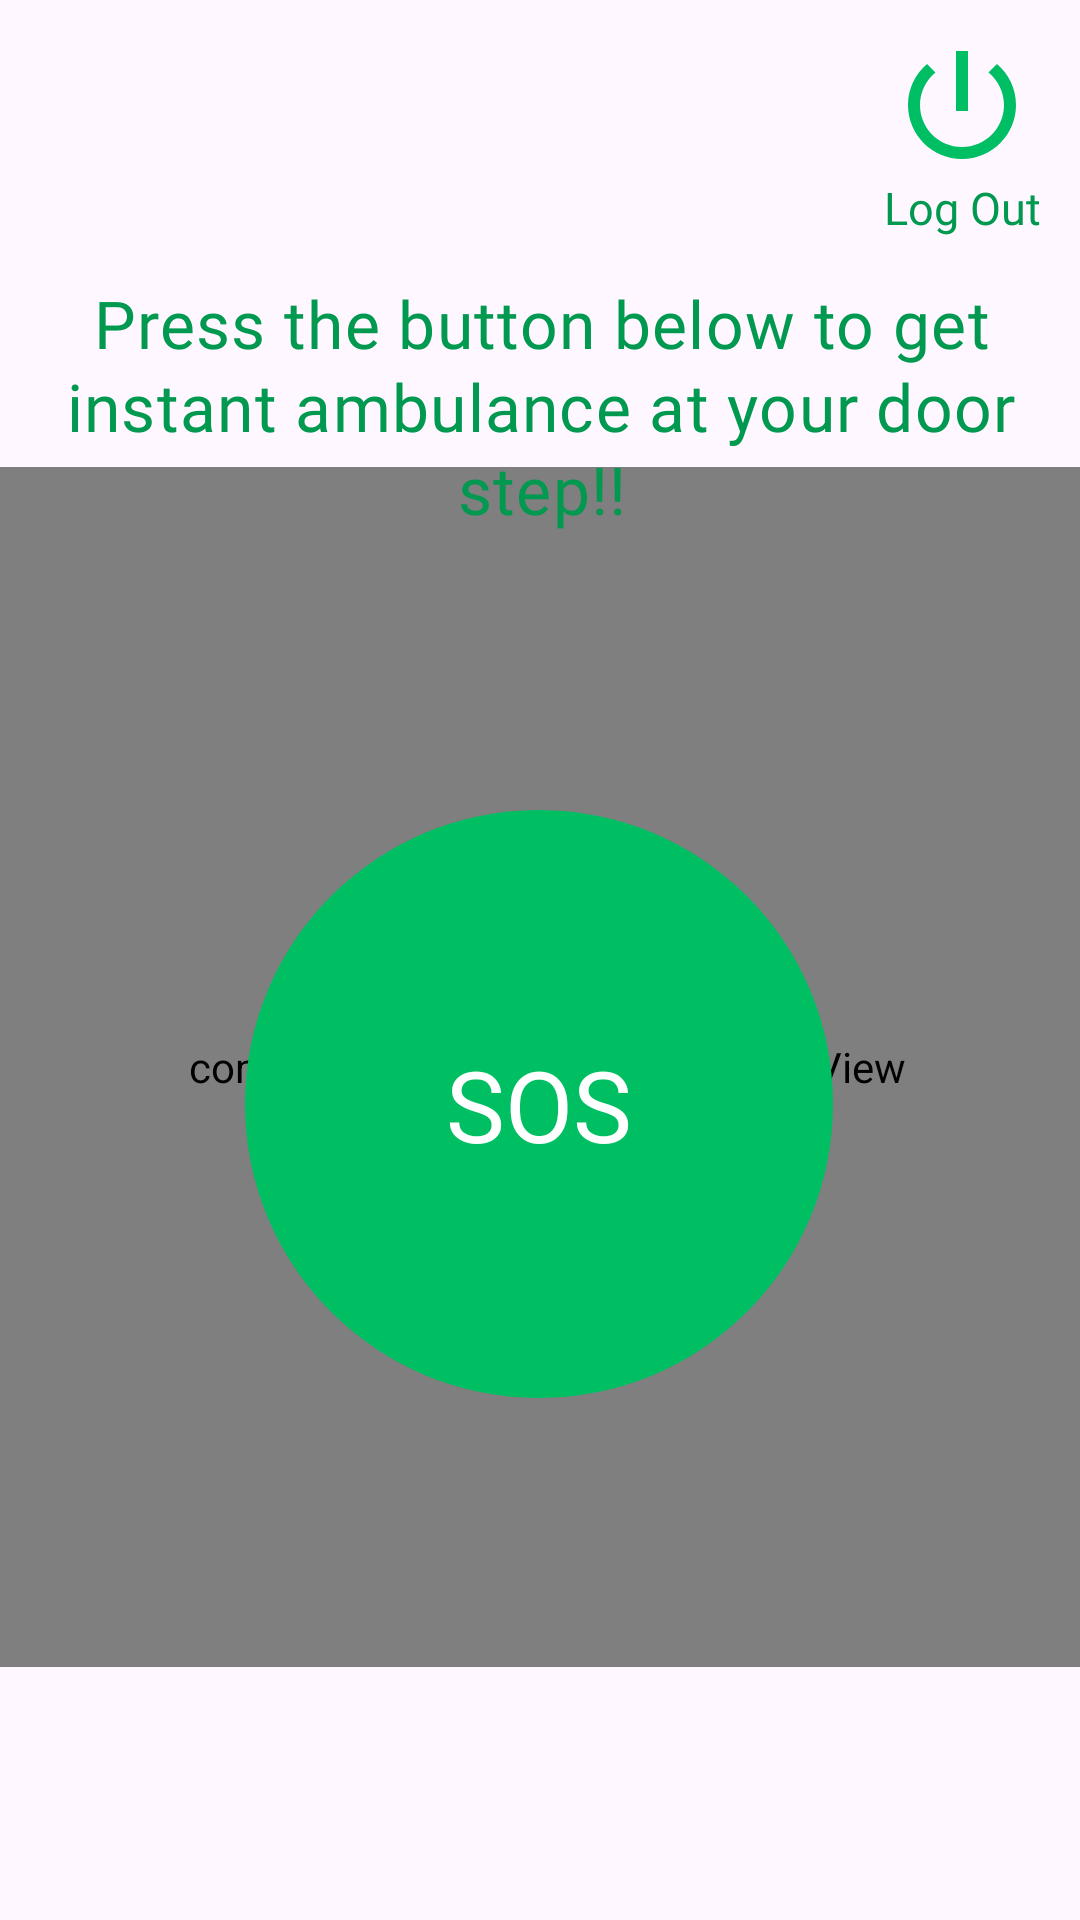

Icons on this 1080x1920 Android screen, each with its box as bbox=[x1, y1, x2, y2]:
power settings: bbox=[908, 51, 1016, 159]
